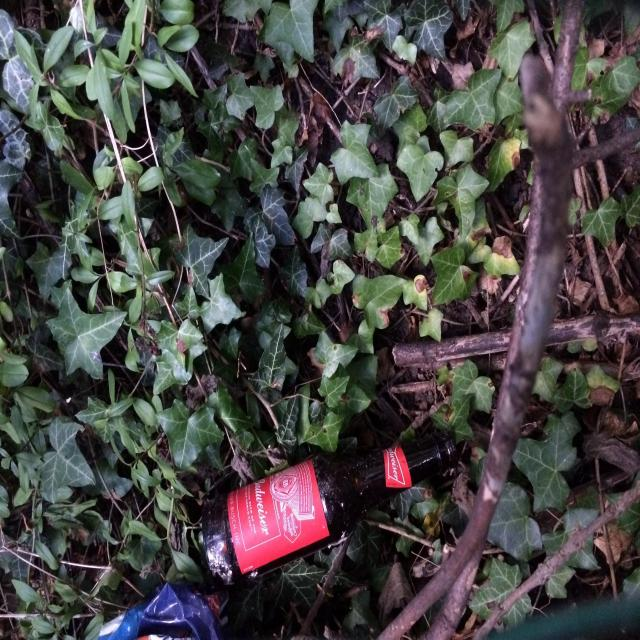Glass bottle: (202, 430, 458, 587)
Other plastic: (98, 583, 227, 639)
